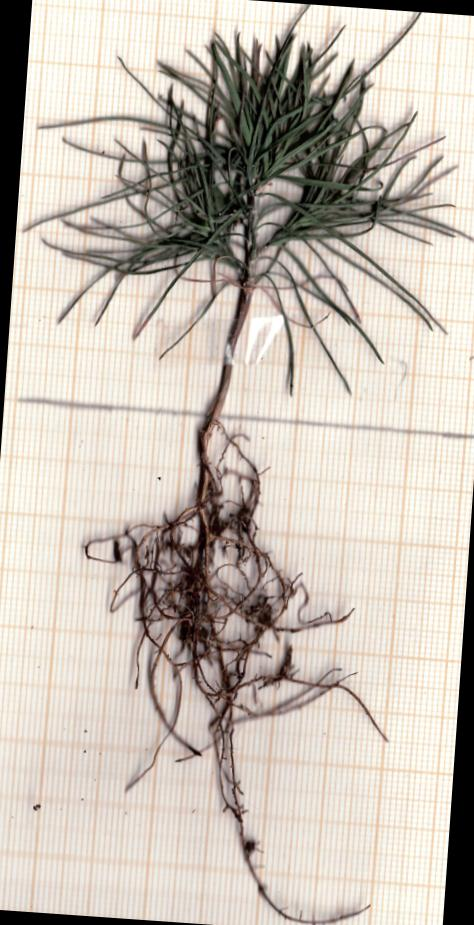flower: (8, 0, 474, 414)
root: (57, 448, 416, 925)
stem: (190, 288, 249, 462)
